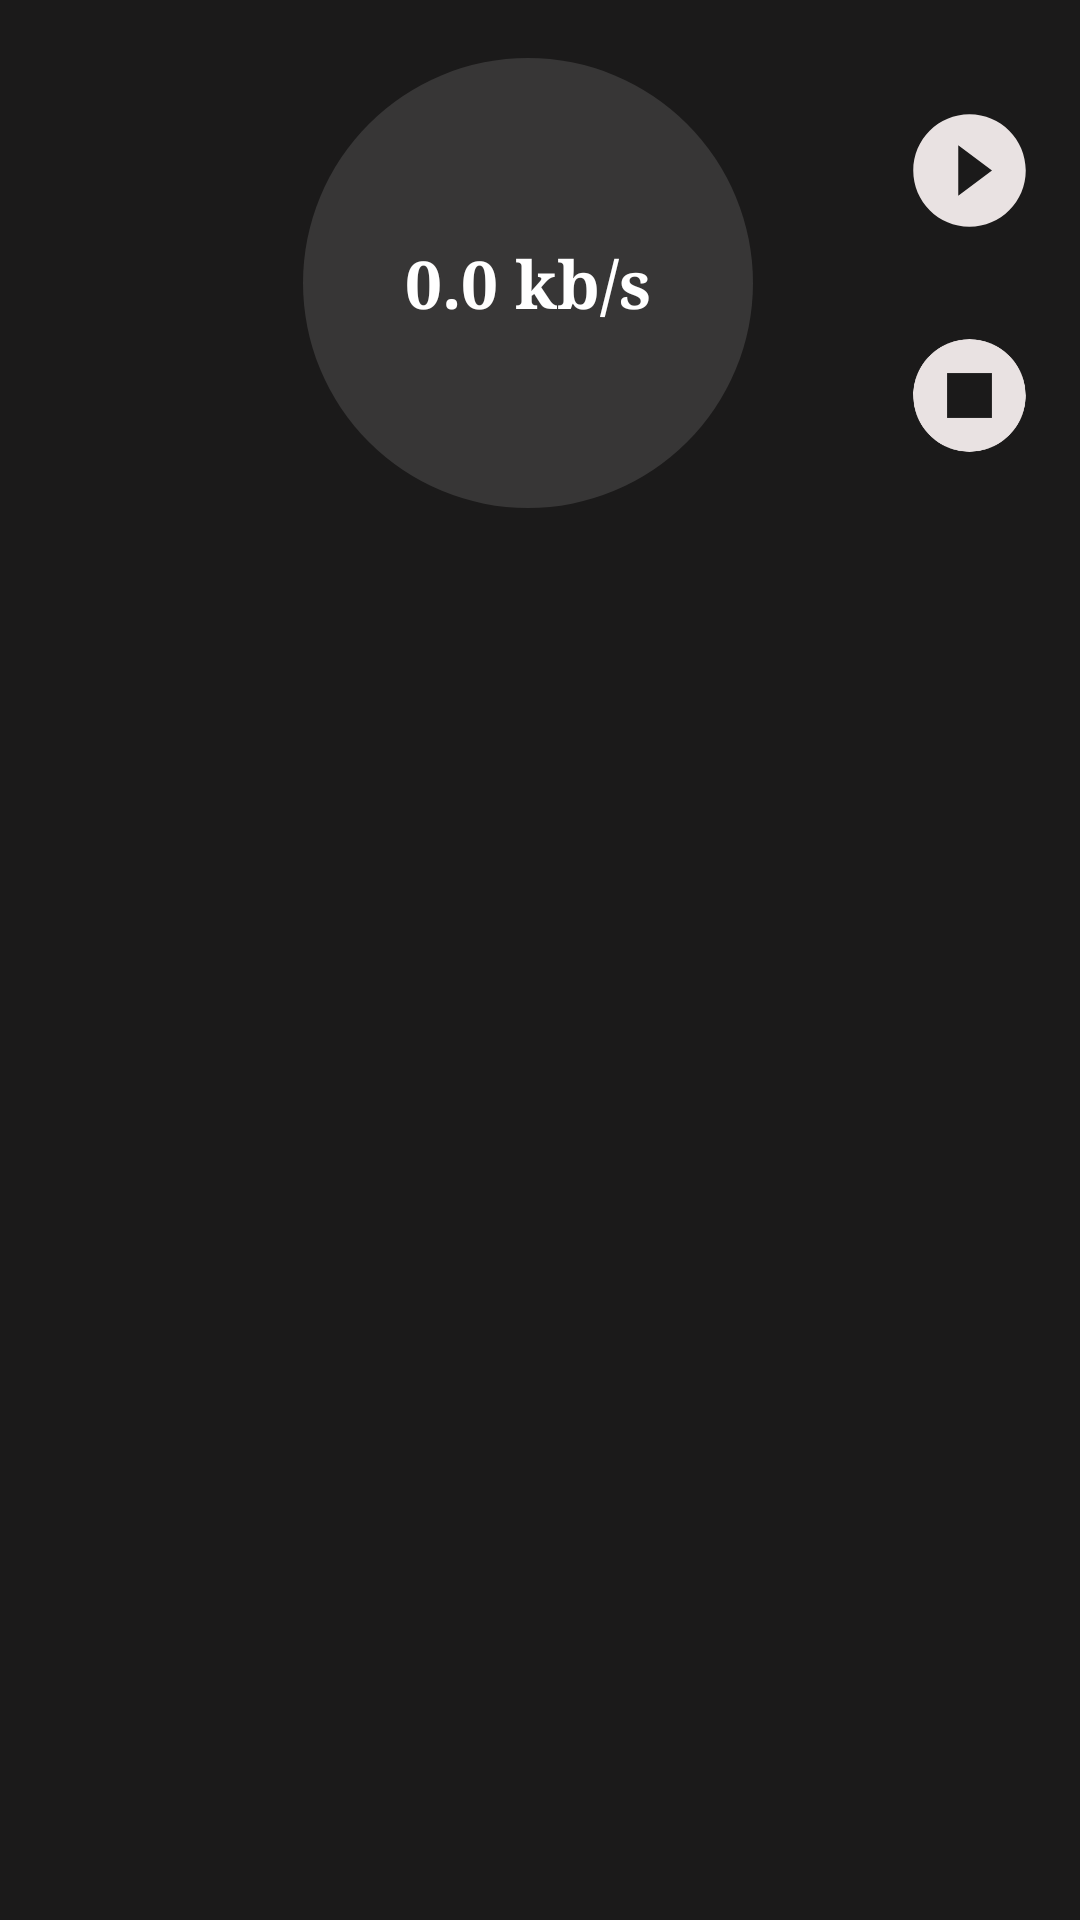

Where to tap for icons on this 1080 × 1920 app screen, as [x,y]:
start service: [969,170]
stop service: [969,395]
